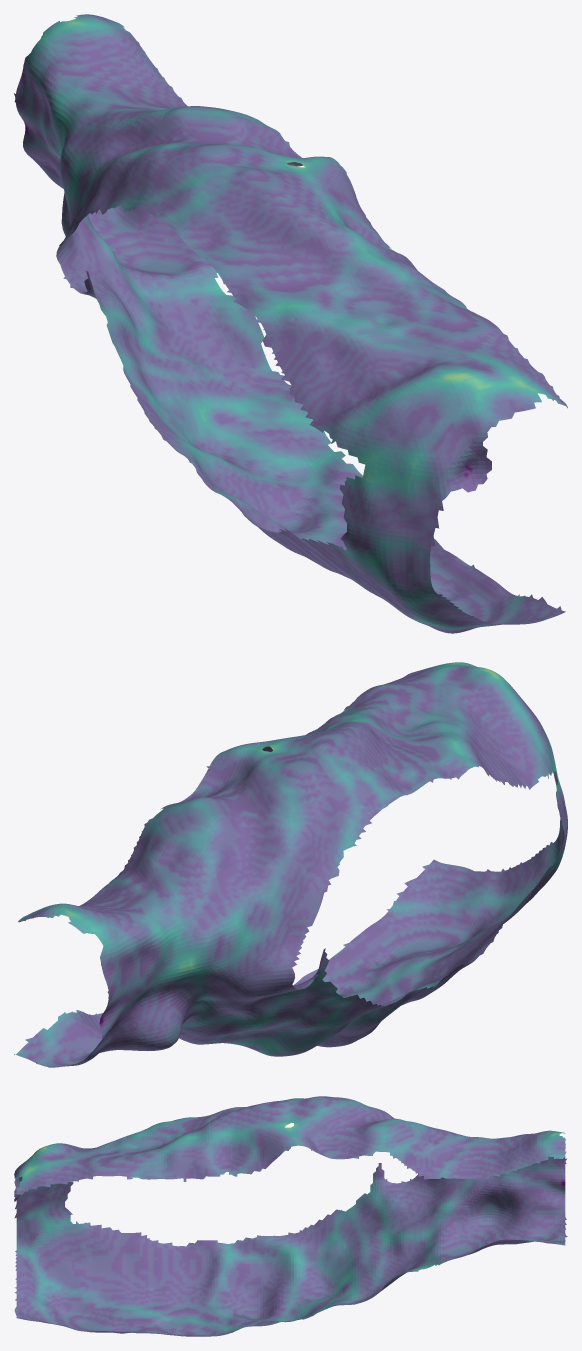
File: crop1142_gap.glb
The picture shows the model from 3 angles, top to bottom: view 1: azimuth 30°, elevation 25°; view 2: azimuth 150°, elevation 25°; view 3: azimuth 270°, elevation 25°; orthographic projection. The views are drawn at different scales.
Visible parts, largest first — view 1: world; view 2: world; view 3: world.
Part boxes in pixels (x1,y1,x2,y2): world: (14, 14, 567, 633); world: (14, 662, 567, 1067); world: (14, 1096, 567, 1336).
Size of the model in its own units: 736 by 1322 by 3134.
